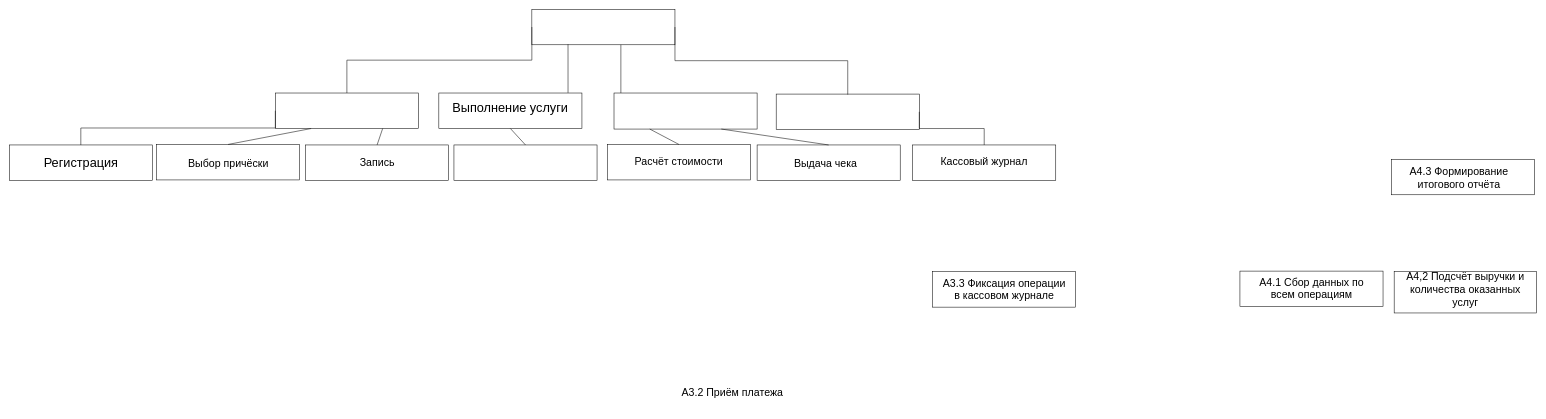
Some shapes in this 1546 by 419 pixel diagram are drawn without their labels. Here are the shapes that lost their labels. From the top down, the box of each, then its label:
(531, 9, 675, 45): Обслуживание клиента
(275, 92, 418, 129): Приём заявки
(613, 92, 757, 129): Оплата услуги
(776, 94, 919, 130): Отчётность
(453, 144, 597, 180): Выполнение
